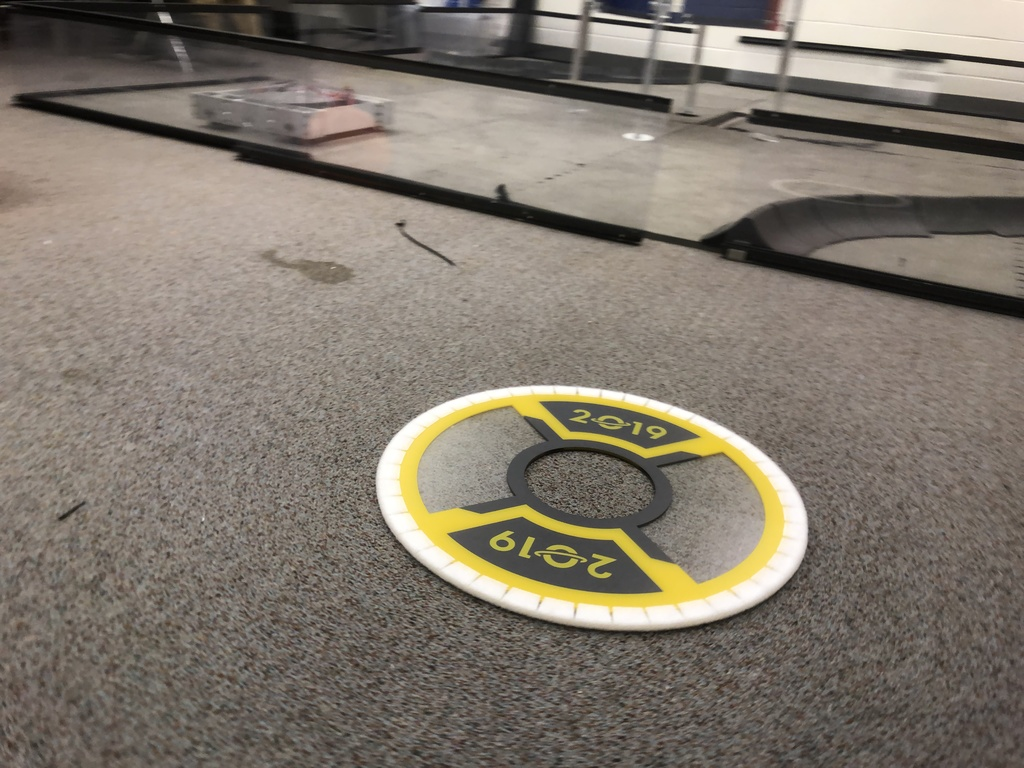hatch_panel: (371, 370, 828, 646)
